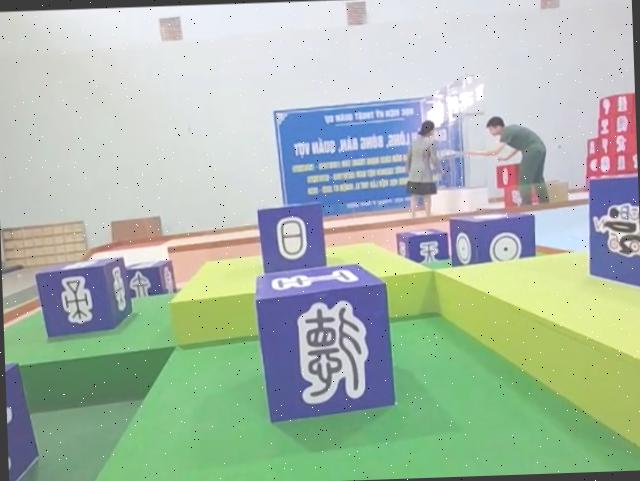R1 Blue: (583, 171, 640, 304)
R2 Fake Blue: (254, 263, 394, 424), (257, 202, 326, 276), (121, 258, 176, 297)
R2 Real Blue: (33, 255, 132, 339), (448, 211, 536, 267), (5, 361, 42, 481), (395, 227, 449, 265)
